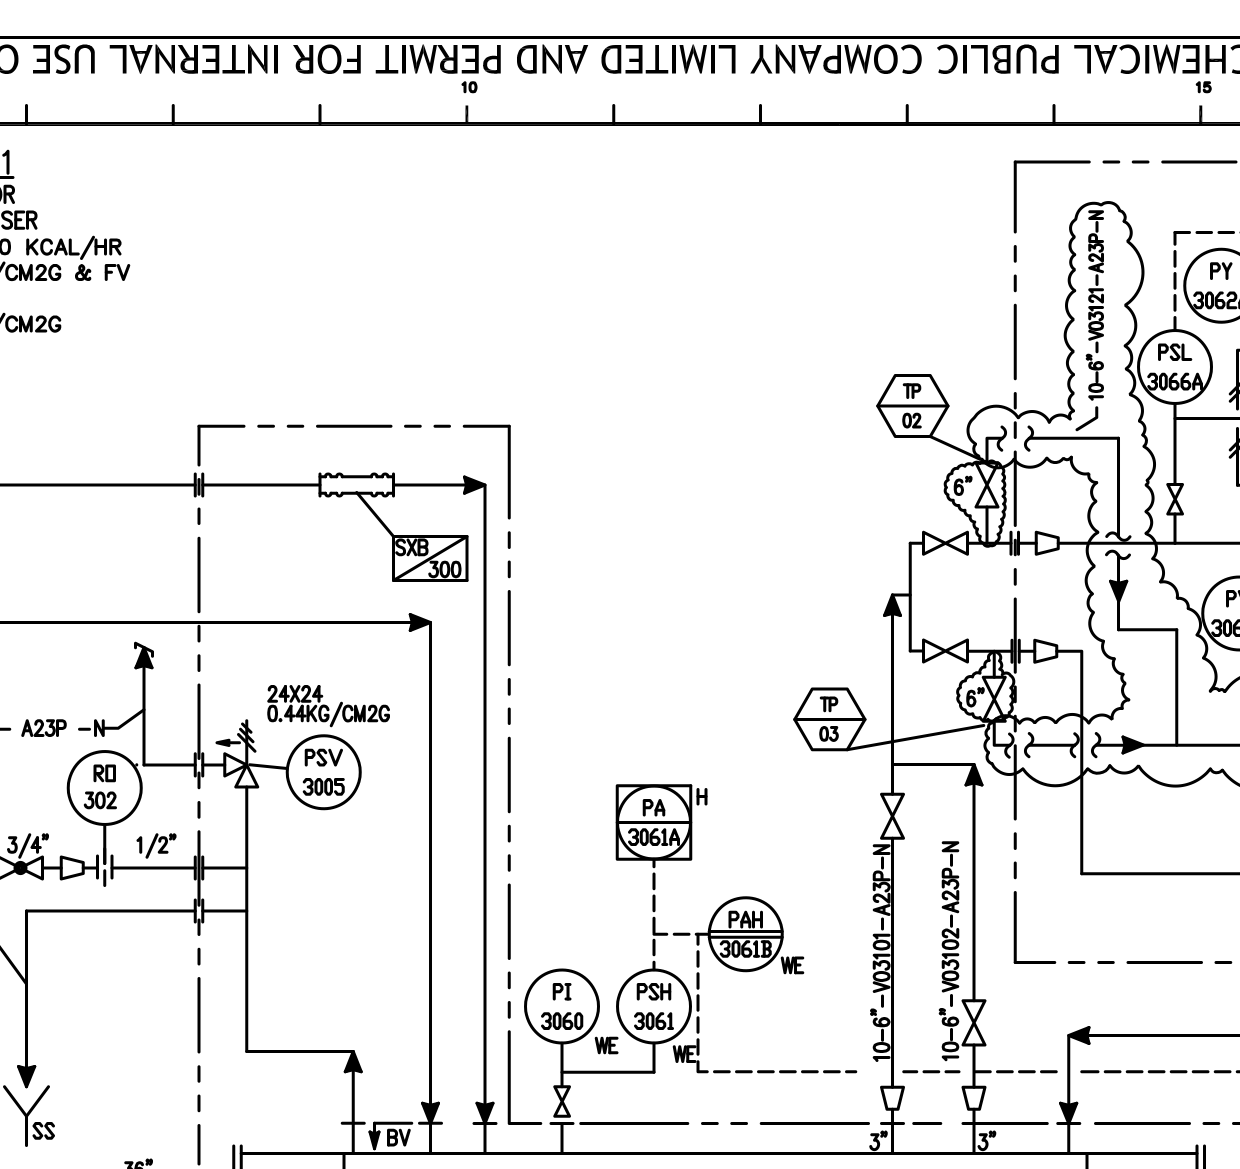Instrument Tag: (63, 743, 150, 832), (608, 961, 696, 1050), (1133, 324, 1221, 413), (522, 961, 608, 1050), (612, 778, 699, 867)
Line Number: (937, 835, 963, 1062), (865, 843, 892, 1070), (1083, 207, 1110, 403)
PSV: (212, 713, 270, 797)
Reducer: (876, 1078, 909, 1117), (960, 1078, 993, 1117), (1031, 634, 1064, 673), (56, 848, 89, 887), (1031, 524, 1064, 563)
Valve: (872, 784, 915, 849), (953, 990, 996, 1054), (915, 525, 974, 560), (917, 635, 976, 670), (1159, 476, 1194, 522), (545, 1079, 581, 1123)
